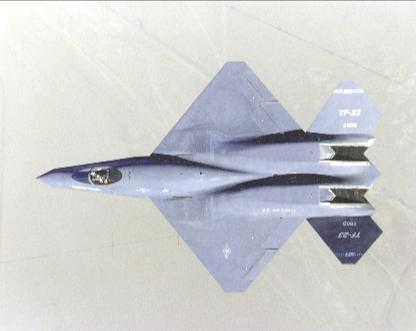US2: (35, 60, 384, 292)
